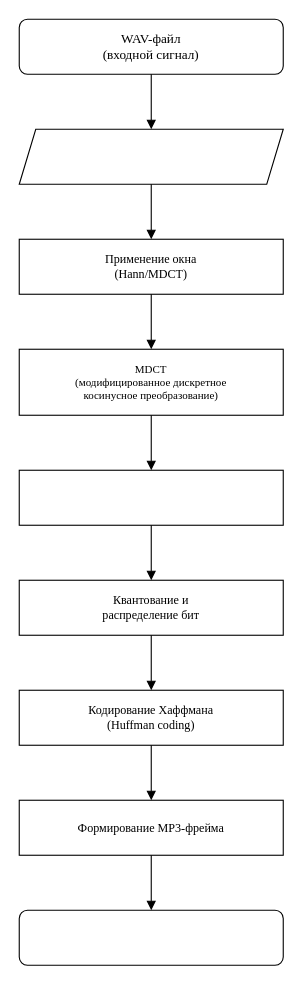
Image size: 303x985. Some labels were removed from this diagram. The shapes that lost their labels are listed below. From the top down, each one's centre as x and y in pixels, then its label:
At [150,156]: "Разбиение на кадры (1152 отсчёта)".
At [150,497]: "Психоакустическая модель".
At [150,937]: "MP3-поток (выходной файл)".
